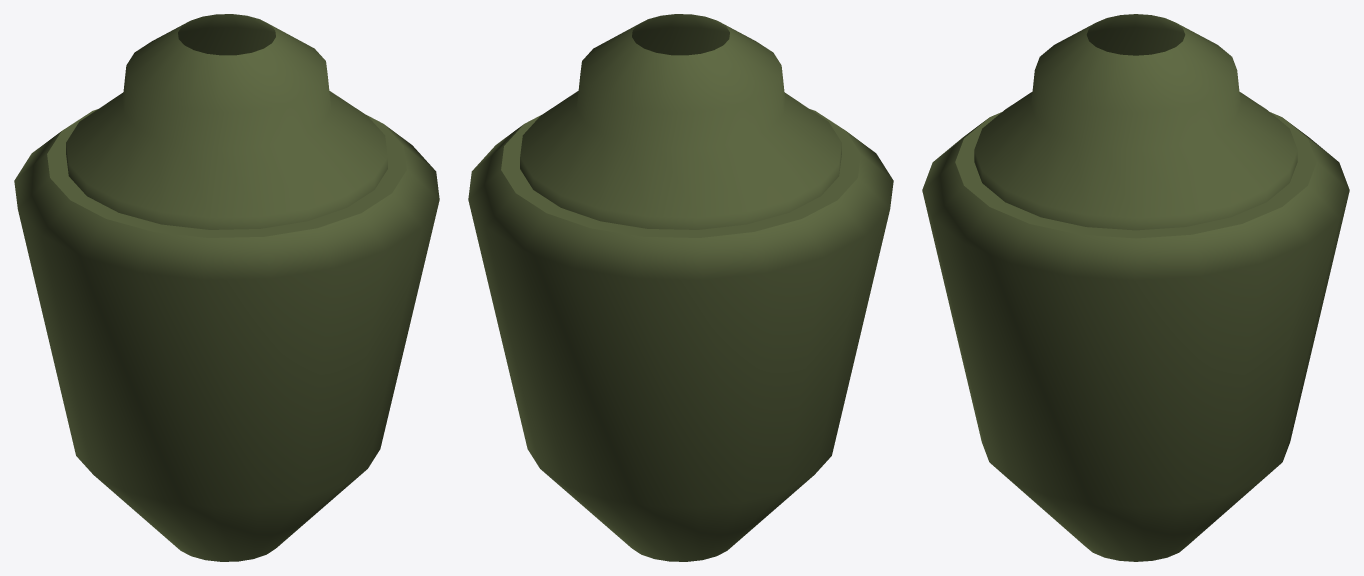
File: SciFi_SpaceRobot_Body_Collider.fbx
3 views of the same model, side by side, from view 1: azimuth 30°, elevation 25°; view 2: azimuth 150°, elevation 25°; view 3: azimuth 270°, elevation 25° (orthographic).
Visible parts, largest first — view 1: SciFi_SpaceRobot_Body_Collider; view 2: SciFi_SpaceRobot_Body_Collider; view 3: SciFi_SpaceRobot_Body_Collider.
Boxes of the visible parts, bbox=[...] form: SciFi_SpaceRobot_Body_Collider: bbox=[14, 14, 439, 561]; SciFi_SpaceRobot_Body_Collider: bbox=[468, 14, 893, 561]; SciFi_SpaceRobot_Body_Collider: bbox=[922, 14, 1349, 561].
Bounding box in the file's own units: 60.43 × 79.91 × 60.43.
